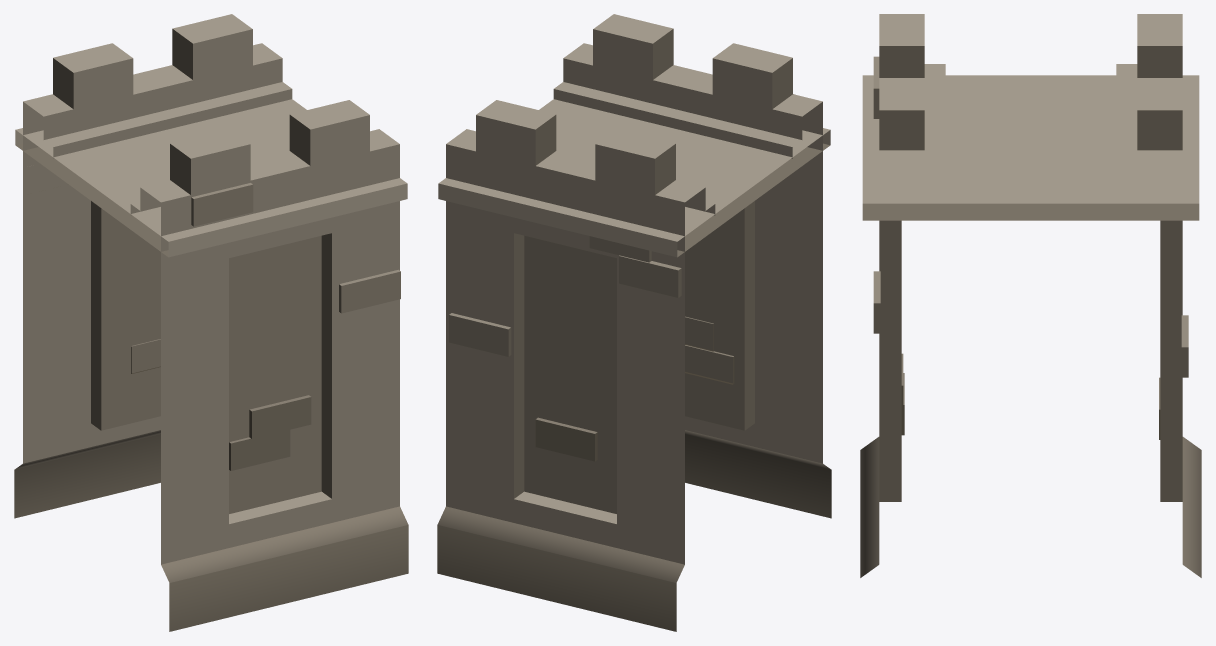
File: SF_Bld_Castle_Wall_02.fbx
3 views of the same model, side by side, from view 1: azimuth 30°, elevation 25°; view 2: azimuth 150°, elevation 25°; view 3: azimuth 270°, elevation 25° (orthographic). The views are drawn at different scales.
Parts seen in each view (by area): view 1: SF_Bld_Castle_Wall_02; view 2: SF_Bld_Castle_Wall_02; view 3: SF_Bld_Castle_Wall_02.
Part boxes in pixels (x1,y1,x2,y2): SF_Bld_Castle_Wall_02: (14, 14, 408, 631); SF_Bld_Castle_Wall_02: (437, 14, 831, 631); SF_Bld_Castle_Wall_02: (860, 14, 1201, 577).
Size of the model in its own units: 5 by 9.19 by 5.62.
